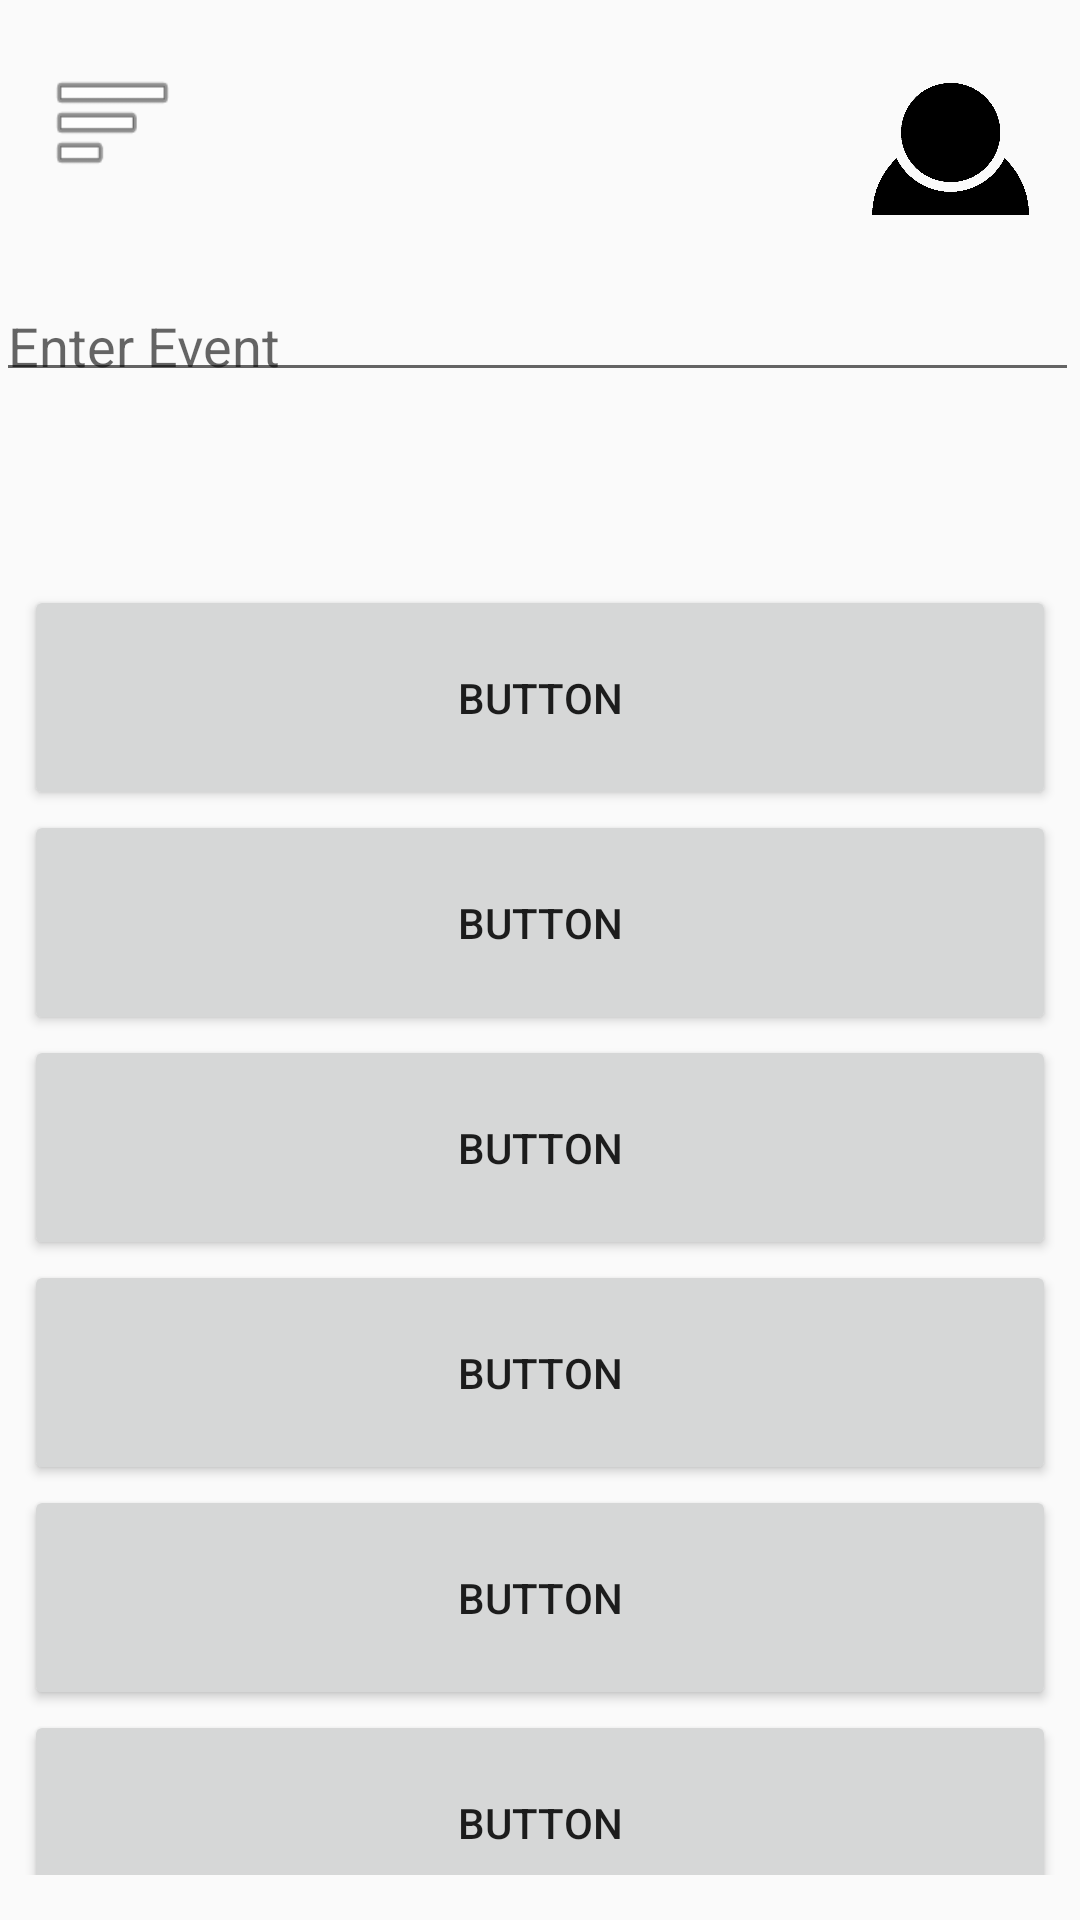

Screen size 1080x1920. Icon name, then its center in pixels as point (x, y):
profile: point (950, 149)
sort by size: point (112, 122)
